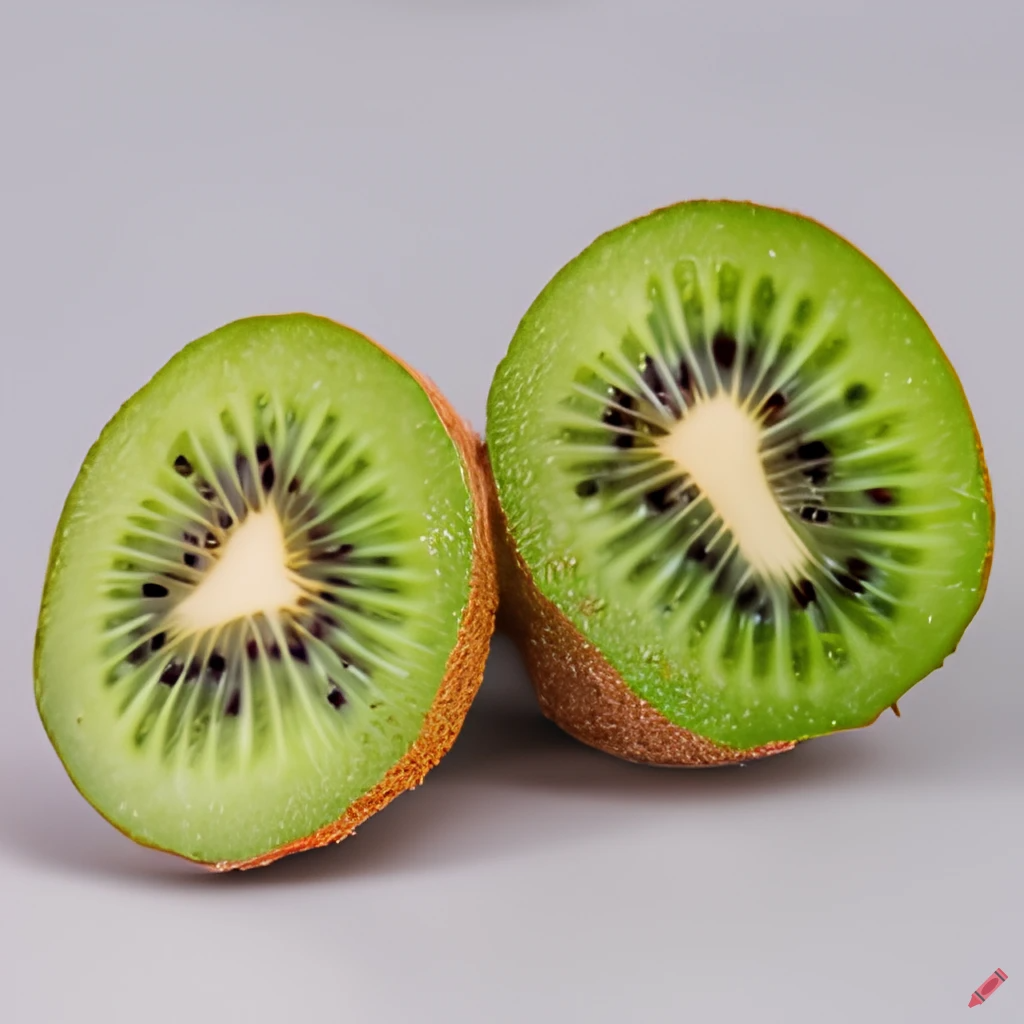Kiwi: (35, 288, 510, 892)
